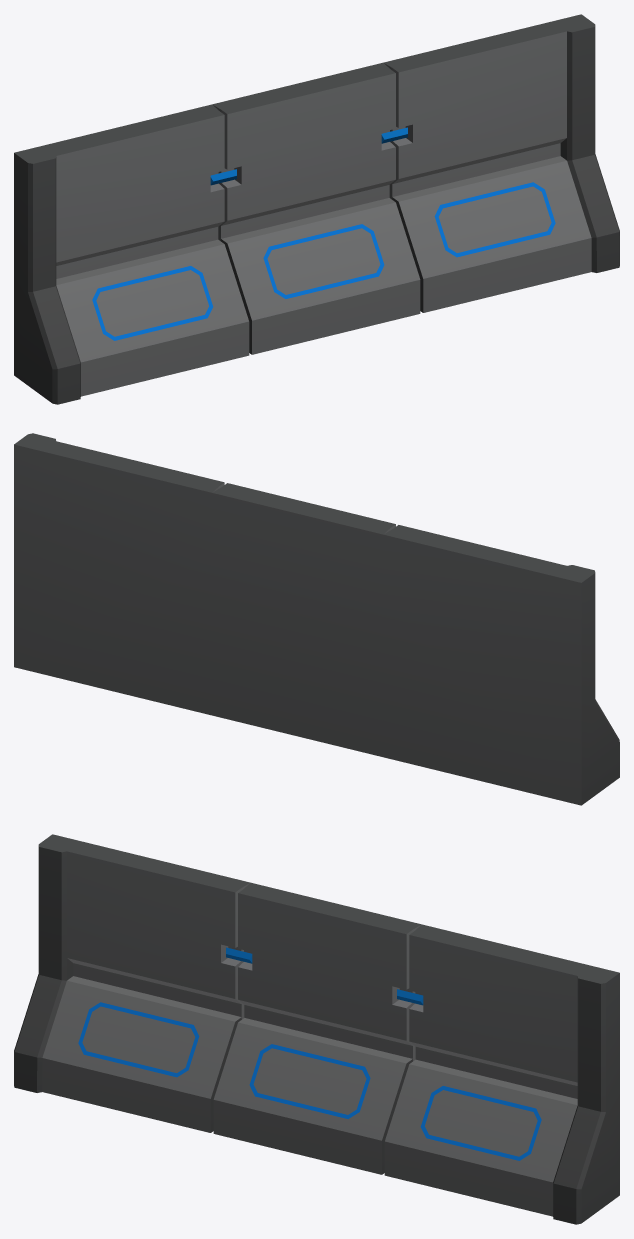
File: Wall_type_B_025.fbx
3 renders of one model, top to bottom at view 1: azimuth 30°, elevation 25°; view 2: azimuth 150°, elevation 25°; view 3: azimuth 330°, elevation 25°, orthographic.
Parts seen in each view (by area): view 1: Wall_type_B_025; view 2: Wall_type_B_025; view 3: Wall_type_B_025.
Part boxes in pixels (box(x1,y1,x2,y2)): Wall_type_B_025: box(14, 14, 619, 404); Wall_type_B_025: box(14, 433, 619, 805); Wall_type_B_025: box(14, 834, 619, 1224).
Size of the model in its own units: 400 by 50 by 150.
